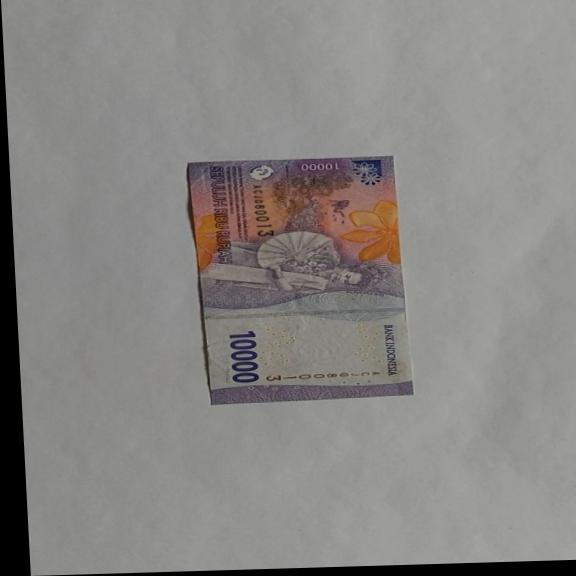Kertas: (186, 154, 414, 405), (226, 329, 262, 384)
